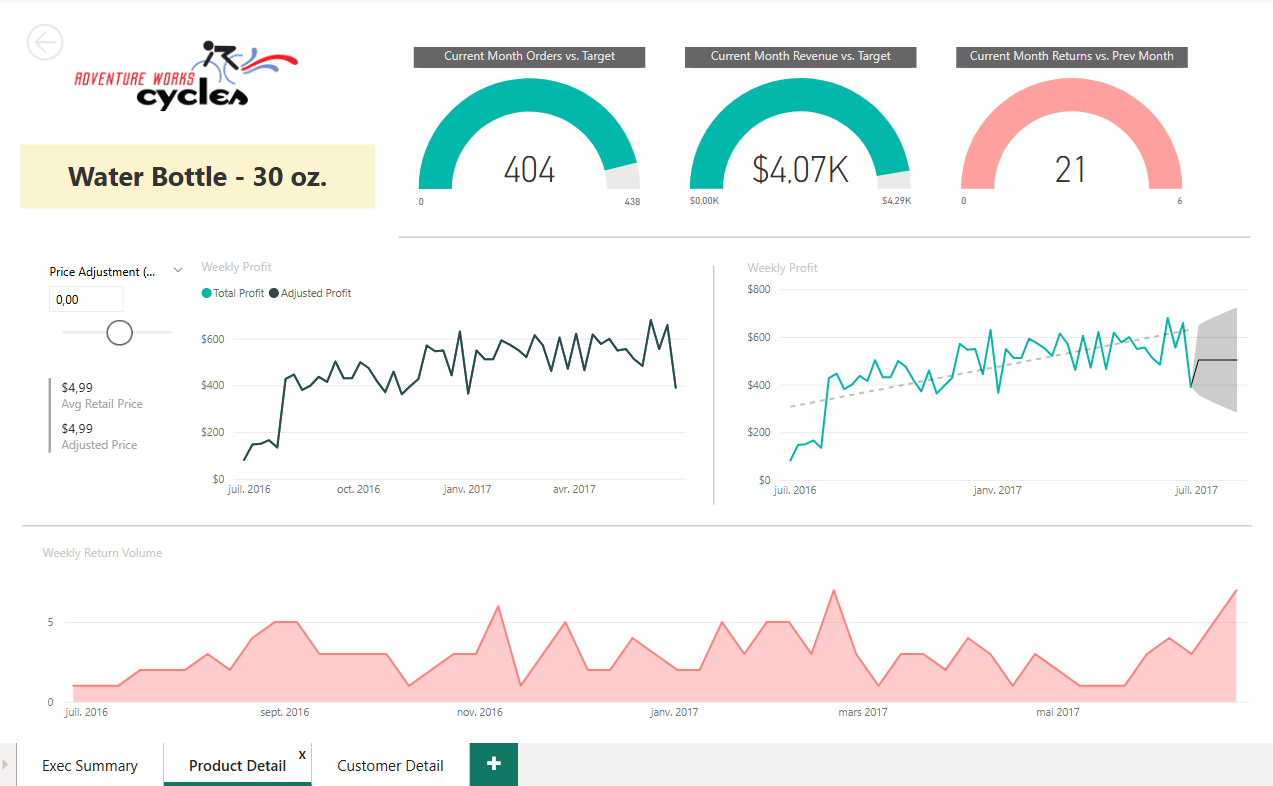

This screenshot's page, from the dashboard's own definition file:
{"tool":"powerbi","page":{"name":"Product Detail","canvas":[1280,720],"ordinal":1},"visuals":[{"type":"lineChart","title":"Weekly Profit","fields":{"Y":["AW_Sales.Total Profit"],"Category":["AW_Calendar_Lookup.Start of Week"]},"box":[746.3,236.8,520,248.2],"z":0},{"type":"areaChart","title":"Weekly Return Volume","fields":{"Category":["AW_Calendar_Lookup.Start of Week"],"Y":["AW_Returns.Total Returns"]},"box":[42.3,521.6,1223.9,185.3],"z":1000},{"type":"lineChart","title":"Weekly Profit","fields":{"Y":["AW_Sales.Total Profit","AW_Sales.Adjusted Profit"],"Category":["AW_Calendar_Lookup.Start of Week"]},"box":[201.3,235.6,506.1,248.2],"z":2000},{"type":"gauge","title":"Current Month Orders vs. Target","fields":{"Y":["AW_Sales.Total Orders"],"MaxValue":["AW_Sales.Order Target"]},"box":[418.7,24.9,231.3,178],"z":3000},{"type":"gauge","title":"Current Month Revenue vs. Target","fields":{"Y":["AW_Sales.Total Revenue"],"MaxValue":["AW_Sales.Revenue Target"]},"box":[689.3,24.9,231.1,177.3],"z":4000},{"type":"gauge","title":"Current Month Returns vs. Prev Month","fields":{"Y":["AW_Returns.Total Returns"],"MaxValue":["AW_Returns.Prev Month Returns"]},"box":[959.7,24.9,231.1,177.3],"z":5000},{"type":"card","fields":{"Values":["Min(AW_Product_Lookup.ProductName)"]},"box":[25.2,122.4,354.6,64.1],"z":6000},{"type":"slicer","fields":{"Values":["Price Adjustment (%).Price Adjustment (%)"]},"box":[41.2,235.6,159,109.8],"z":7000},{"type":"multiRowCard","fields":{"Values":["AW_Product_Lookup.Avg Retail Price","AW_Product_Lookup.Adjusted Price"]},"box":[48.3,351.2,152.1,106.4],"z":8000},{"type":"basicShape","box":[656.6,233.4,122.4,258.5],"z":9000},{"type":"basicShape","box":[393,196.7,870.7,35.5],"z":10000},{"type":"basicShape","box":[17.2,485.9,1246.8,35.5],"z":11000},{"type":"image","box":[73,14,240.2,80.1],"z":12000},{"type":"basicShape","box":[0,0,100,40],"z":13000}]}

Visuals, with their boxes on the page's 1280x720 design canvas (x1, y1, x2, y2). These are canvas units, not pixel positions in the 1273x786 screenshot, which may show the page scaled, cropped or inside an application window:
"Weekly Profit" lineChart: bbox=[746, 237, 1266, 485]
"Weekly Return Volume" areaChart: bbox=[42, 522, 1266, 707]
"Weekly Profit" lineChart: bbox=[201, 236, 707, 484]
"Current Month Orders vs. Target" gauge: bbox=[419, 25, 650, 203]
"Current Month Revenue vs. Target" gauge: bbox=[689, 25, 920, 202]
"Current Month Returns vs. Prev Month" gauge: bbox=[960, 25, 1191, 202]
card - Min(AW_Product_Lookup.ProductName): bbox=[25, 122, 380, 186]
slicer - Price Adjustment (%).Price Adjustment (%): bbox=[41, 236, 200, 345]
multiRowCard - AW_Product_Lookup.Avg Retail Price x AW_Product_Lookup.Adjusted Price: bbox=[48, 351, 200, 458]
basicShape: bbox=[657, 233, 779, 492]
basicShape: bbox=[393, 197, 1264, 232]
basicShape: bbox=[17, 486, 1264, 521]
image: bbox=[73, 14, 313, 94]
basicShape: bbox=[0, 0, 100, 40]
